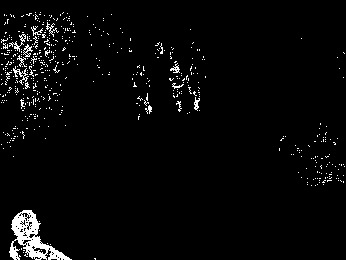person: (131, 64, 153, 120), (182, 64, 206, 111), (169, 61, 185, 113)
